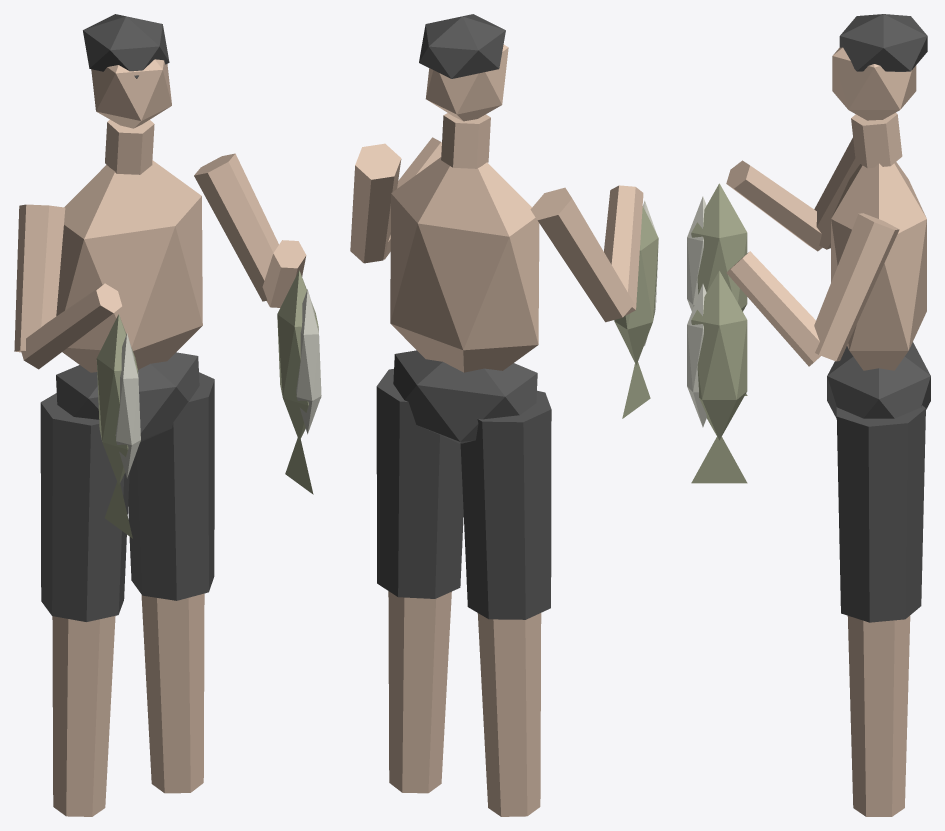
The model's file is fisher.glb.
3 views of the same model, side by side, from view 1: azimuth 30°, elevation 25°; view 2: azimuth 150°, elevation 25°; view 3: azimuth 270°, elevation 25° (orthographic).
Parts seen in each view (by area): view 1: Fisher_torso, Fisher_short-1, Fisher_short1, Fisher_leg-1, Fisher_leg1, Fisher_hips, Fisher_uarm-1, Fisher_uarm1, Fisher_head, Fisher_hair, Fisher_farm-1, Fisher_fish1 (+7 smaller); view 2: Fisher_torso, Fisher_short-1, Fisher_short1, Fisher_leg-1, Fisher_leg1, Fisher_hips, Fisher_uarm-1, Fisher_uarm1, Fisher_hair, Fisher_farm-1, Fisher_head, Fisher_fish-1 (+3 smaller); view 3: Fisher_short1, Fisher_torso, Fisher_leg1, Fisher_fish1, Fisher_uarm1, Fisher_hips, Fisher_hair, Fisher_farm1, Fisher_head, Fisher_fish-1, Fisher_farm-1, Fisher_neck (+4 smaller).
Boxes of the visible parts, bbox=[...] form: Fisher_torso: bbox=[56, 160, 202, 372]; Fisher_short-1: bbox=[40, 393, 129, 621]; Fisher_short1: bbox=[128, 372, 214, 600]; Fisher_leg-1: bbox=[52, 616, 115, 816]; Fisher_leg1: bbox=[141, 593, 204, 793]; Fisher_hips: bbox=[56, 352, 199, 441]; Fisher_uarm-1: bbox=[14, 204, 65, 352]; Fisher_uarm1: bbox=[194, 153, 278, 301]; Fisher_head: bbox=[91, 59, 171, 128]; Fisher_hair: bbox=[83, 14, 169, 78]; Fisher_farm-1: bbox=[21, 283, 121, 369]; Fisher_fish1: bbox=[277, 270, 321, 440]; Fisher_torso: bbox=[390, 157, 539, 372]; Fisher_short-1: bbox=[460, 390, 551, 619]; Fisher_short1: bbox=[376, 369, 463, 598]; Fisher_leg-1: bbox=[477, 613, 541, 816]; Fisher_leg1: bbox=[388, 591, 451, 793]; Fisher_hips: bbox=[393, 350, 537, 443]; Fisher_uarm-1: bbox=[530, 187, 634, 322]; Fisher_uarm1: bbox=[350, 143, 401, 263]; Fisher_hair: bbox=[419, 14, 505, 78]; Fisher_farm-1: bbox=[604, 185, 643, 315]; Fisher_head: bbox=[425, 44, 508, 121]; Fisher_fish-1: bbox=[614, 206, 658, 365]; Fisher_short1: bbox=[836, 405, 925, 622]; Fisher_torso: bbox=[831, 162, 926, 370]; Fisher_leg1: bbox=[847, 615, 910, 816]; Fisher_fish1: bbox=[691, 271, 747, 440]; Fisher_uarm1: bbox=[814, 213, 899, 361]; Fisher_hips: bbox=[827, 342, 930, 418]; Fisher_hair: bbox=[839, 14, 927, 71]; Fisher_farm1: bbox=[726, 251, 820, 366]; Fisher_head: bbox=[832, 47, 916, 120]; Fisher_fish-1: bbox=[691, 183, 747, 311]; Fisher_farm-1: bbox=[726, 160, 822, 251]; Fisher_neck: bbox=[851, 112, 902, 168].
Size of the model in its own units: 0.6756 by 1.81 by 0.5196.
